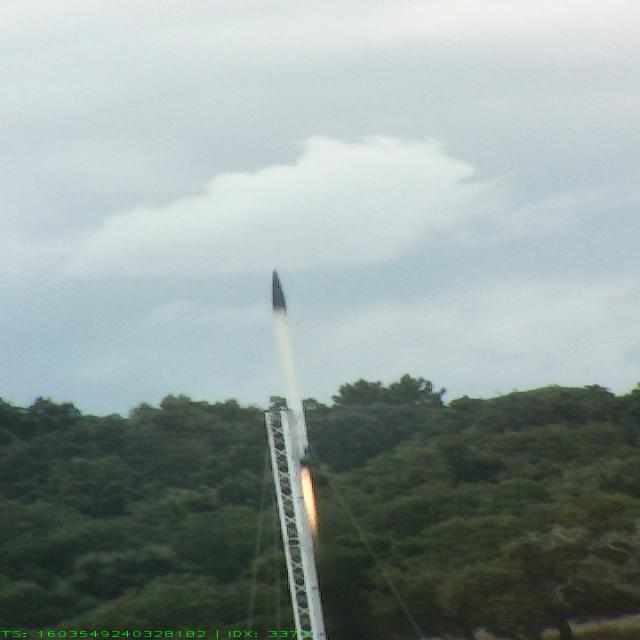Rocket: (268, 268, 316, 468)
